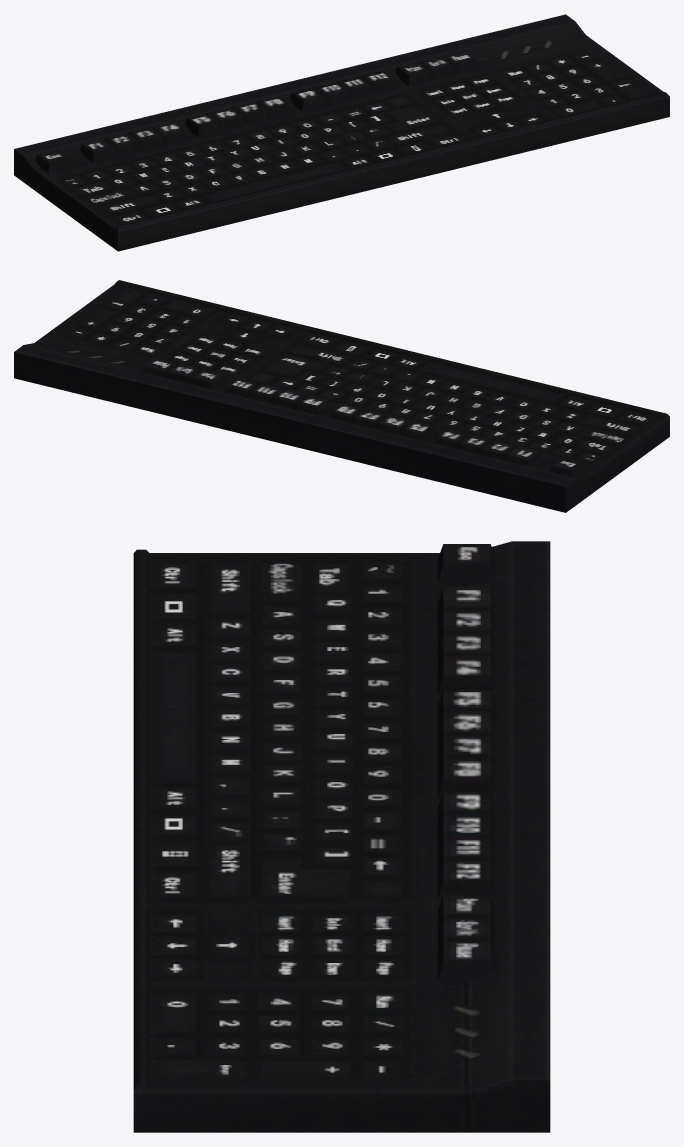
Rendered from keyboard.dae.
The picture shows the model from 3 angles, top to bottom: view 1: azimuth 30°, elevation 25°; view 2: azimuth 150°, elevation 25°; view 3: azimuth 270°, elevation 25°; orthographic projection. The views are drawn at different scales.
Visible parts, largest first — view 1: keyboard; view 2: keyboard; view 3: keyboard.
Boxes of the visible parts, x1=… form: keyboard: x1=14, y1=14, x2=669, y2=251; keyboard: x1=14, y1=280, x2=669, y2=512; keyboard: x1=133, y1=541, x2=550, y2=1132.
Bounding box in the file's own units: 42 × 2.14 × 13.73.
